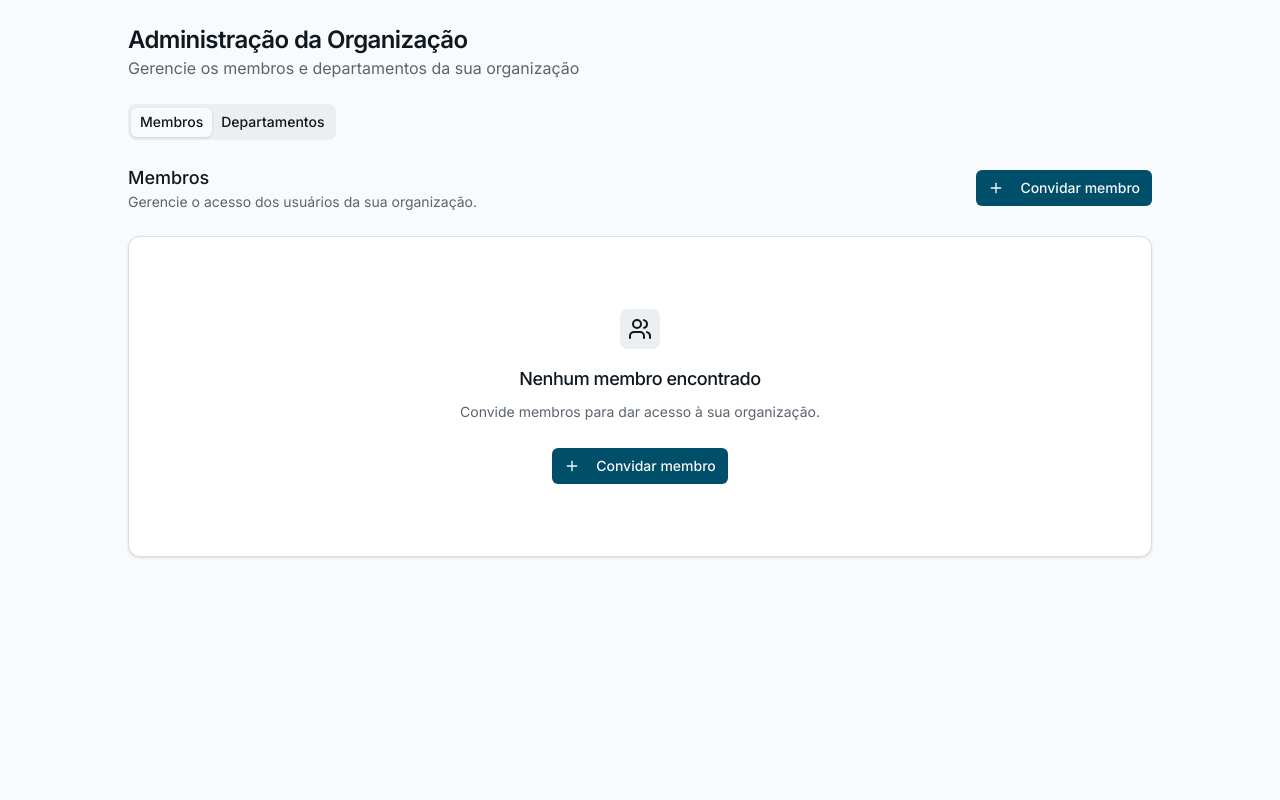
Scenario: OwnerMembersPage › refreshes the members list after inviting a provisioned pending member
This screenshot has width=1280, height=800.
Expected: the text "Nenhum membro encontrado" is shown, [519,365,761,393]
Click the 1st button "Convidar membro". click: (1064, 188)
box: [976,170,1152,206]
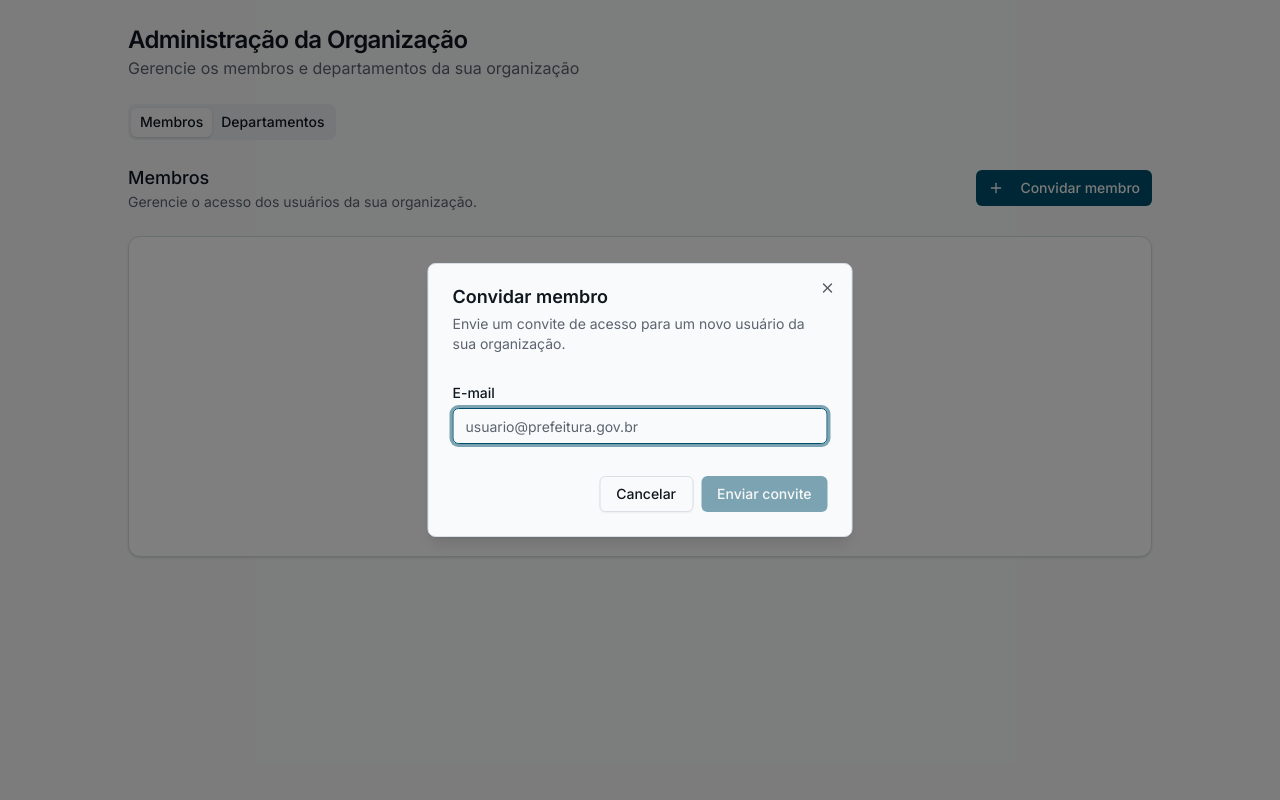
Type "novo.membro@prefeitura.gov.br" into the field labelled "E-mail". click: (640, 426)
box: [452,408,828,444]
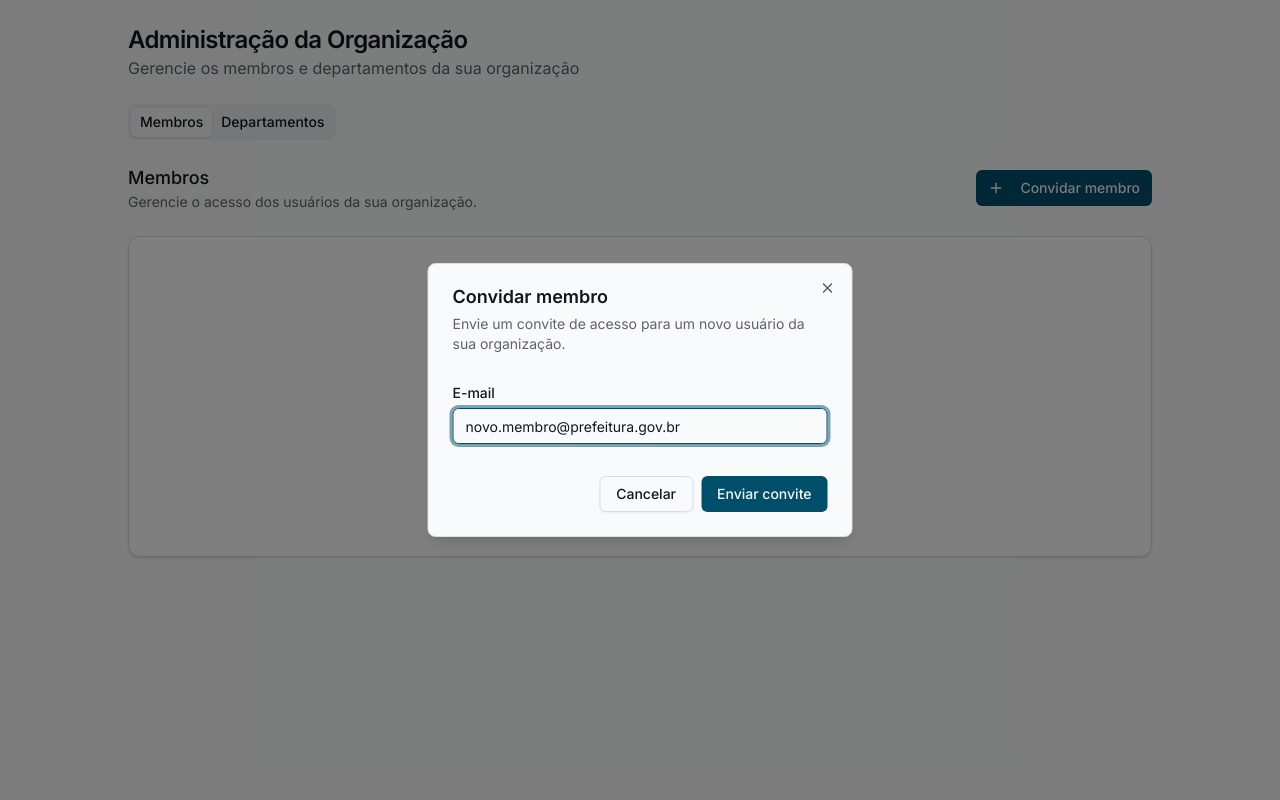
Click the button "Enviar convite". click: (764, 494)
box: [701,476,828,512]
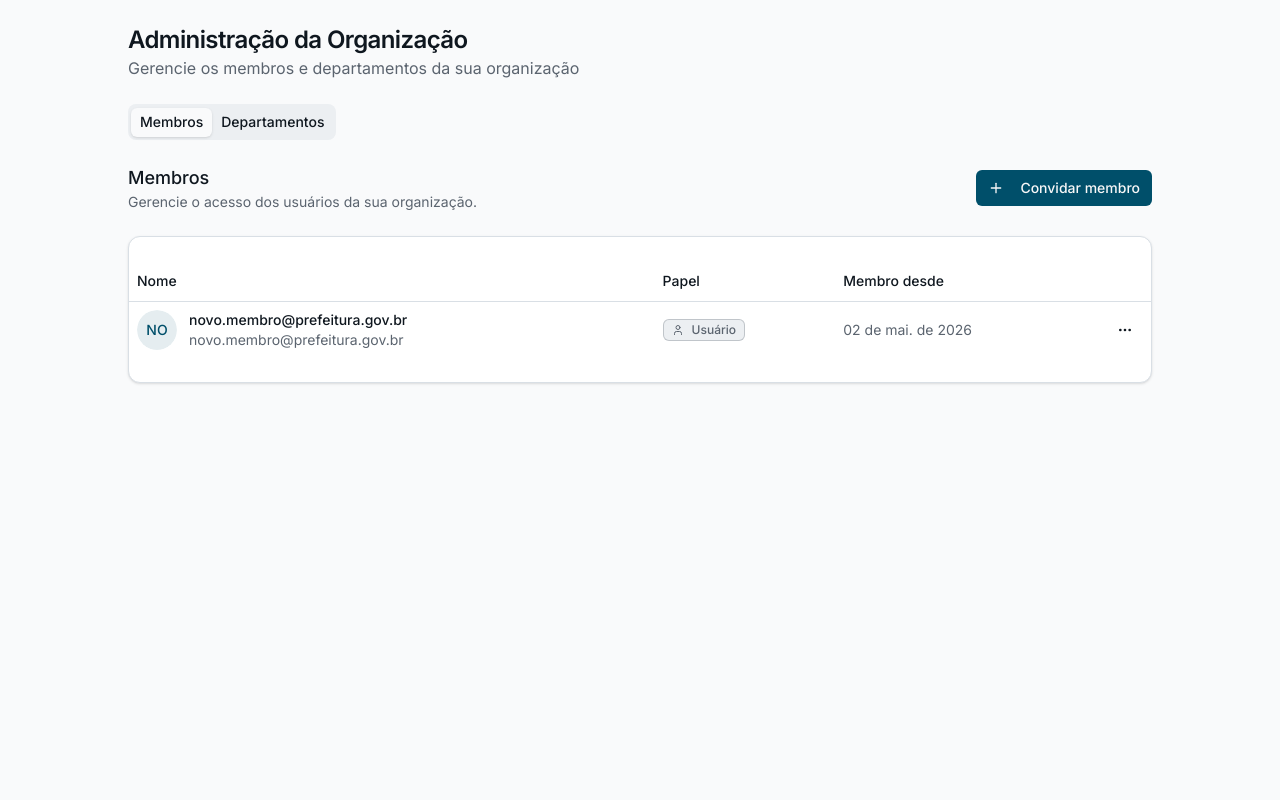
Expected: the 1st text "novo.membro@prefeitura.gov.br" is shown, [189,310,407,330]
Expected: the text "Nenhum membro encontrado" is gone
